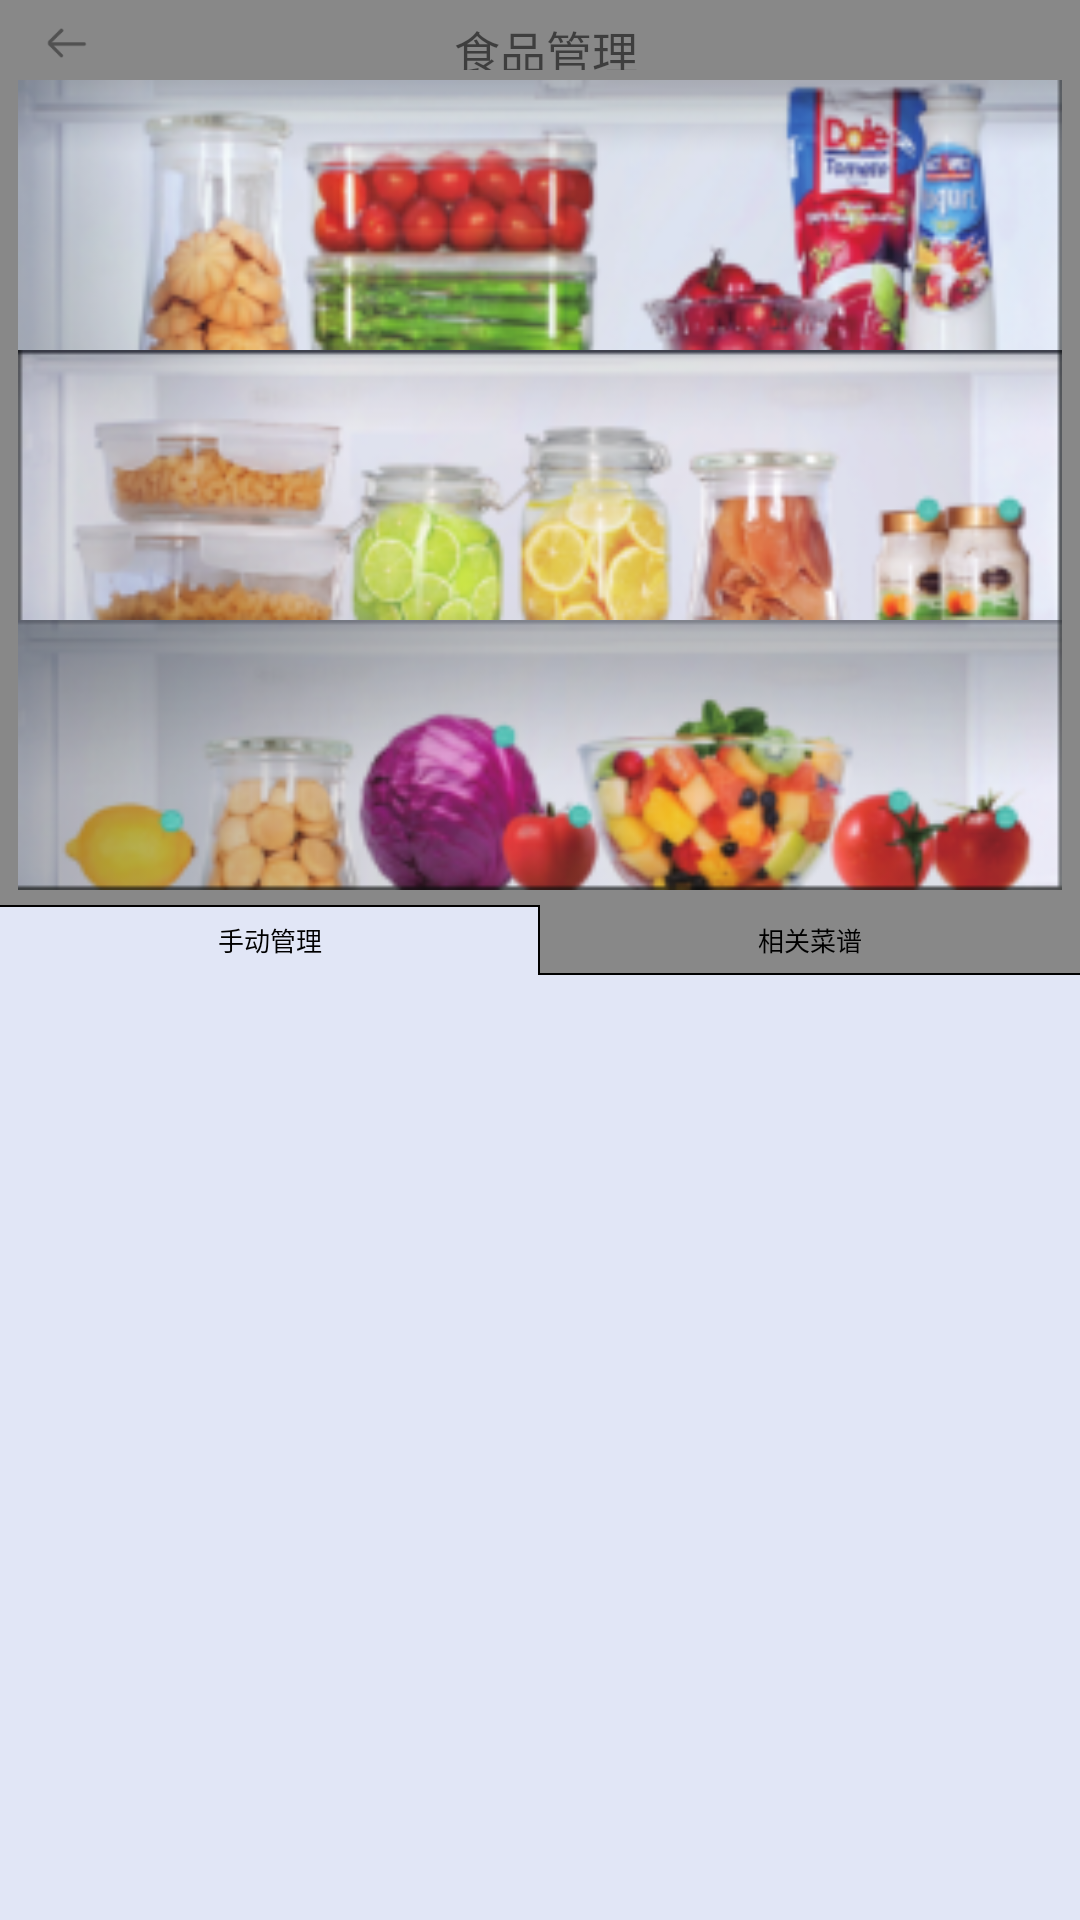

Where to tap for icons on this 1080px x 1920px app screen, as (x=x, y=y):
back: (x=67, y=43)
